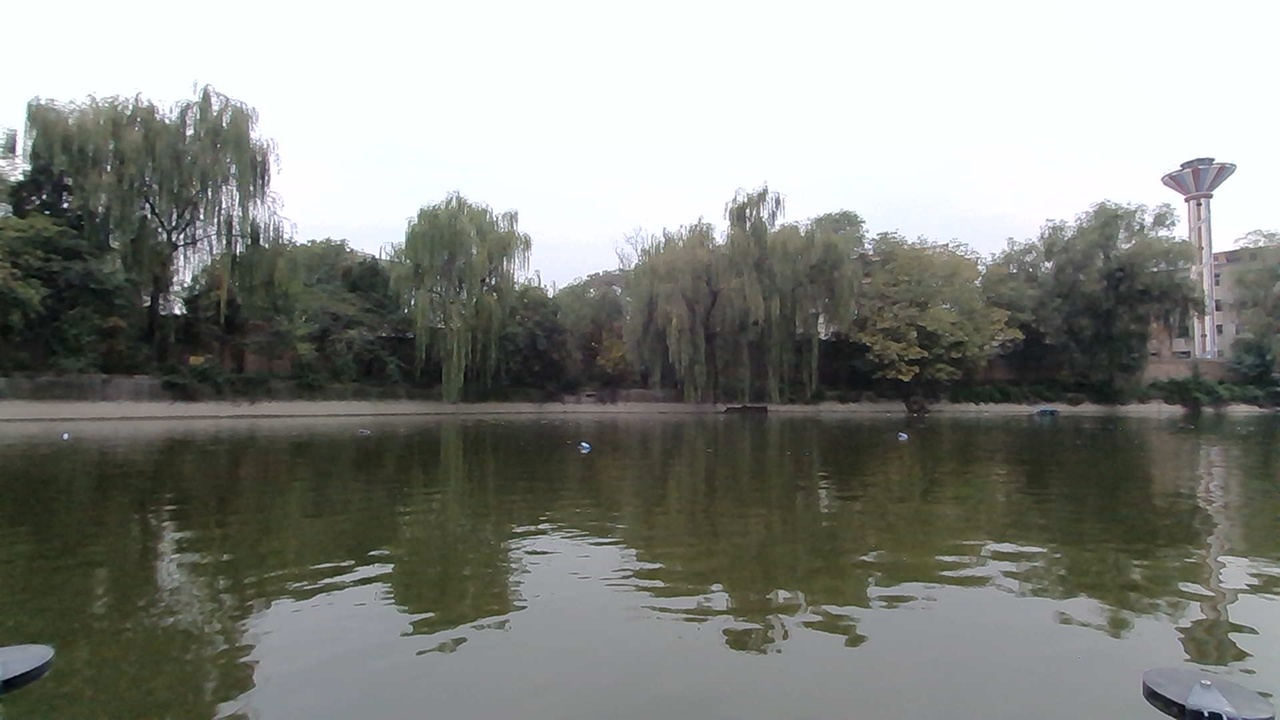bottle: (342, 415, 378, 446), (564, 432, 603, 460), (45, 421, 86, 444), (884, 424, 915, 445)
